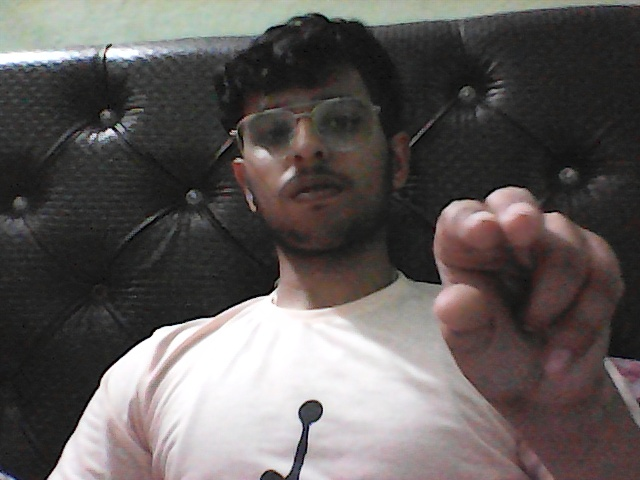no: (382, 170, 638, 382)
